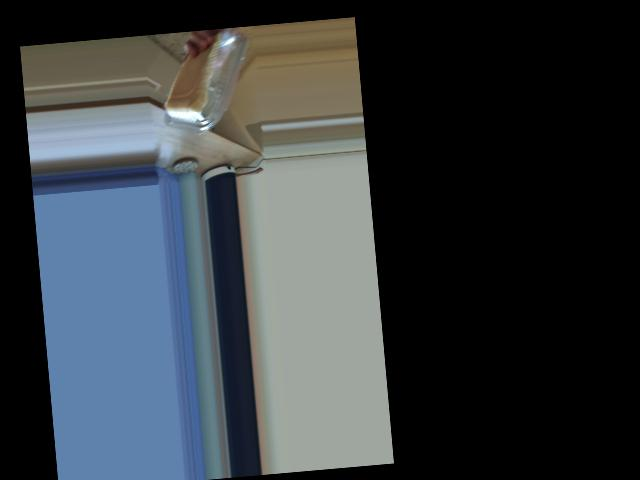cheese: (172, 65, 239, 125)
